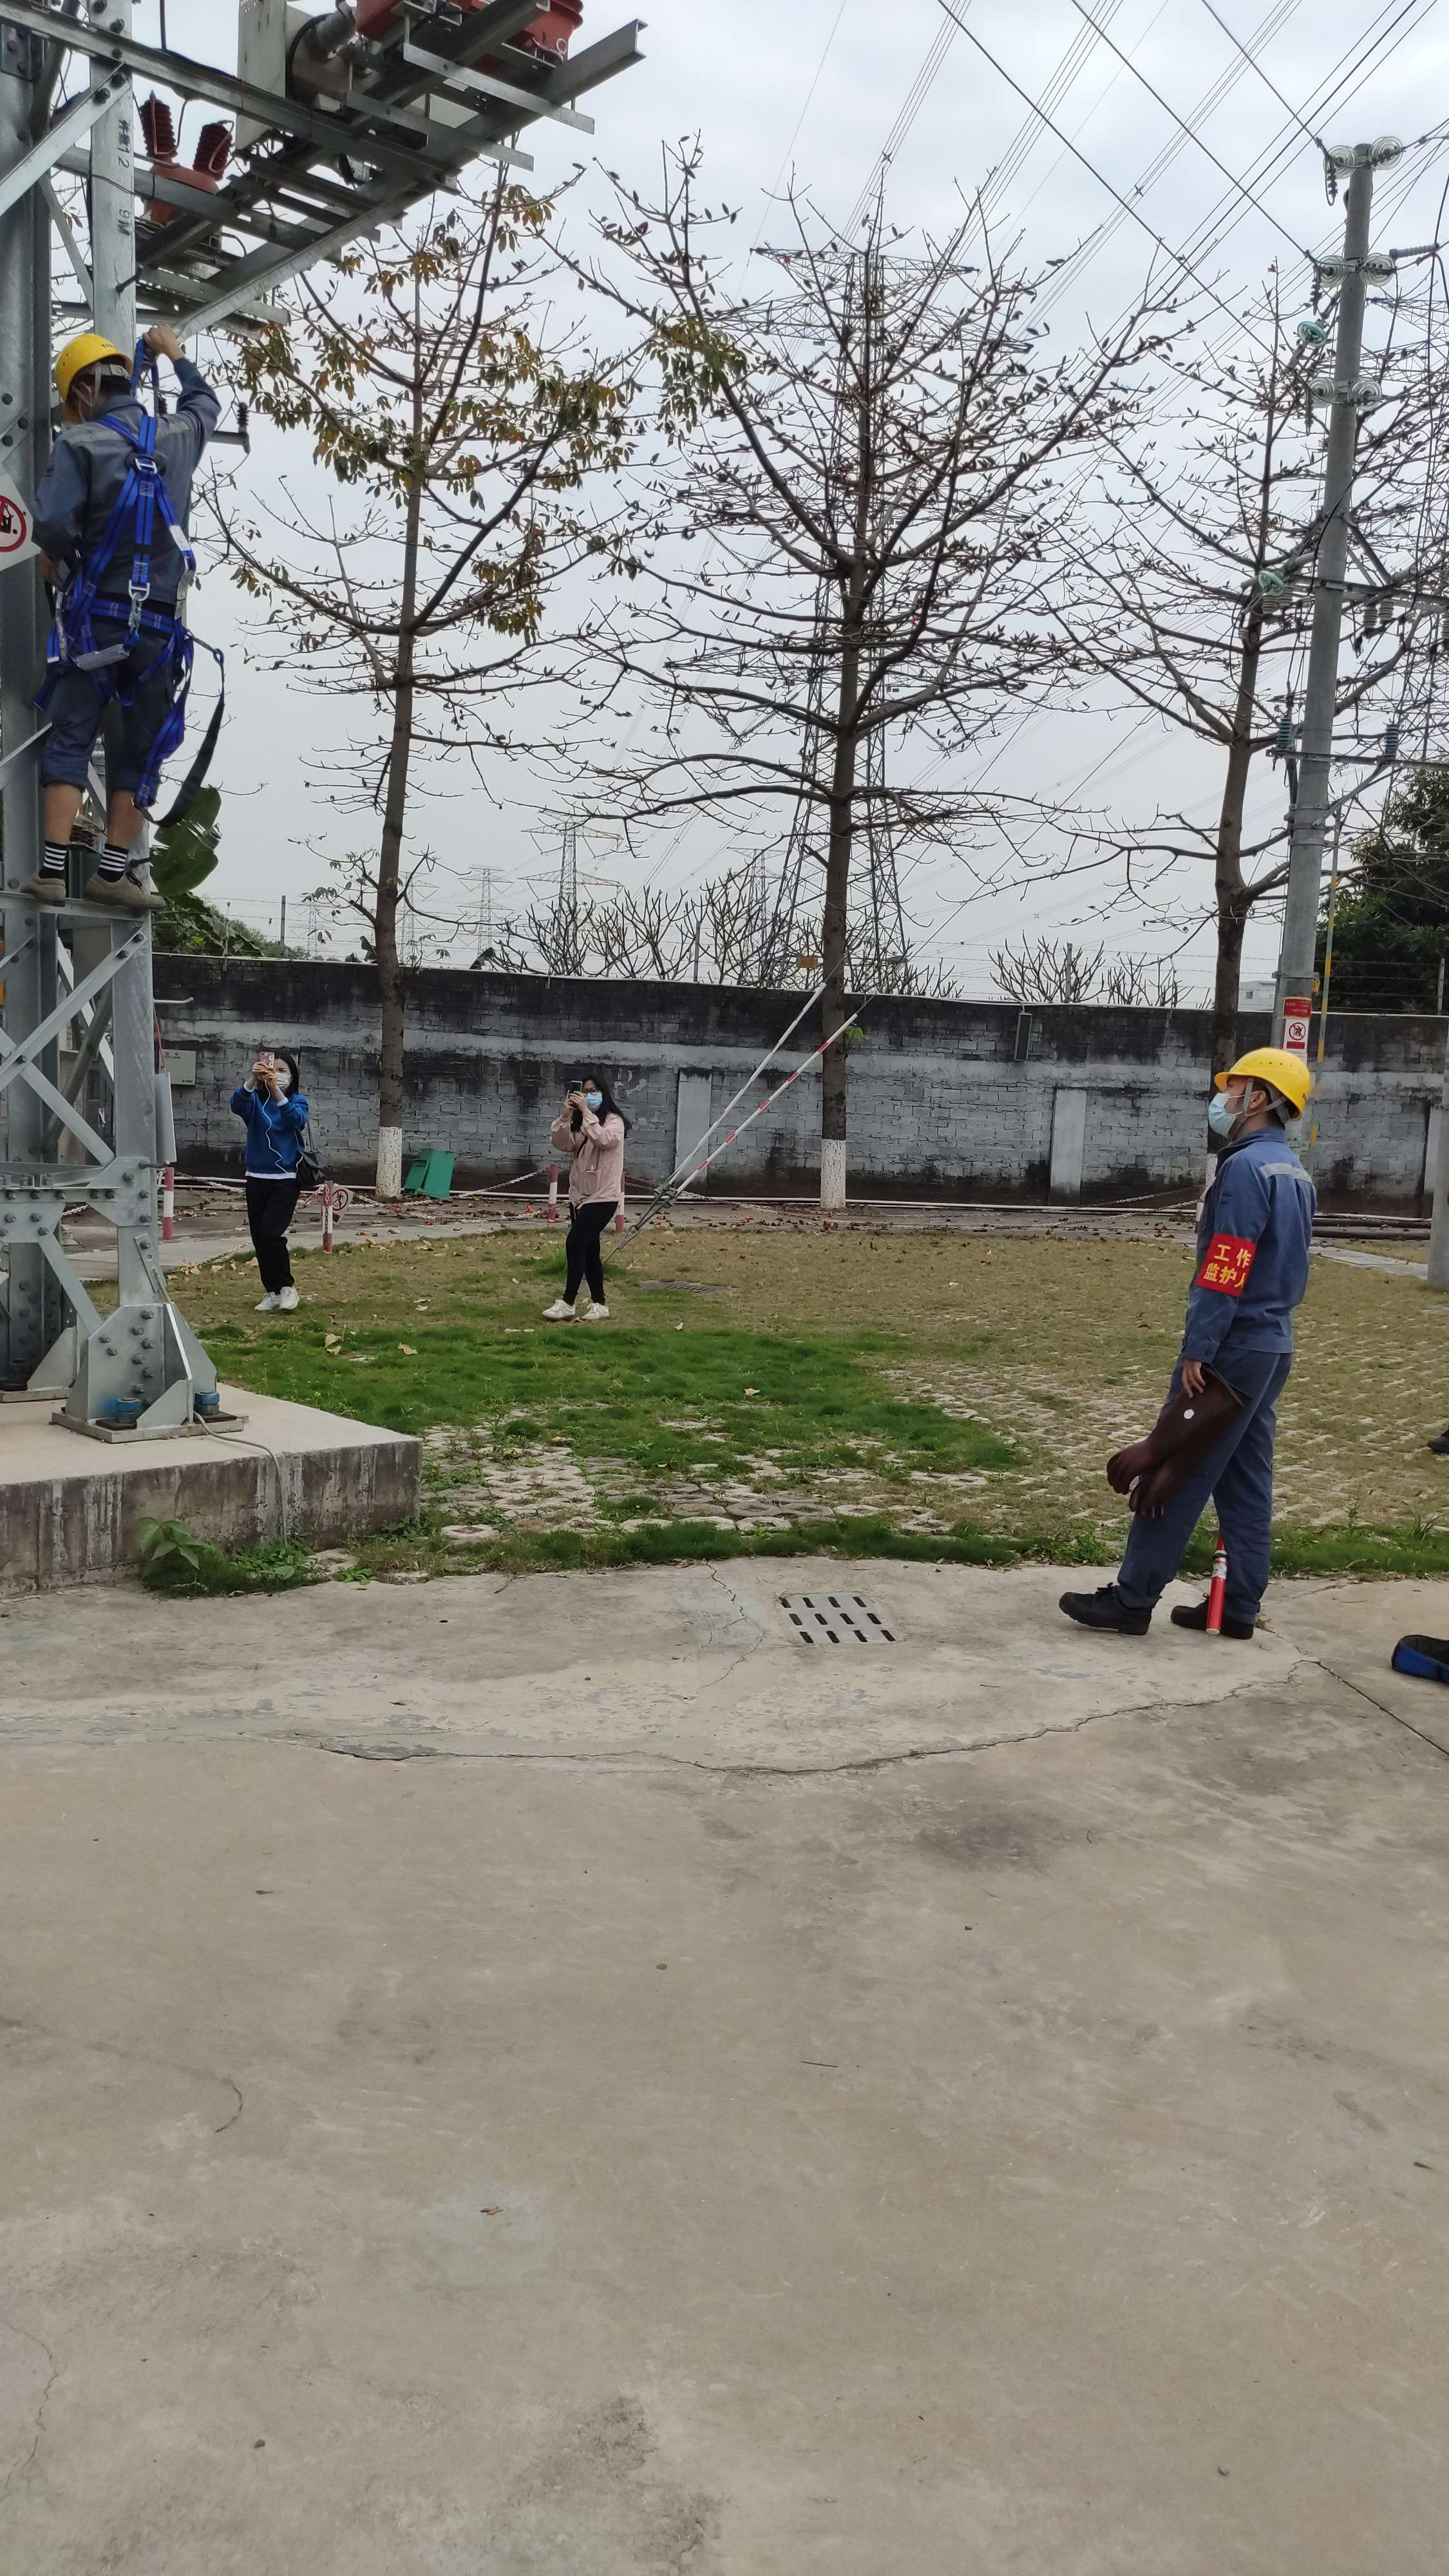downcloth: (246, 1184, 299, 1292), (561, 1205, 619, 1293)
downsuit: (1120, 1352, 1295, 1608), (35, 626, 184, 796)
upcloth: (228, 1090, 315, 1178), (554, 1111, 628, 1203)
upsuit: (32, 380, 212, 605), (1189, 1141, 1316, 1336)
wrongbottom: (35, 757, 97, 858), (106, 791, 145, 870)
